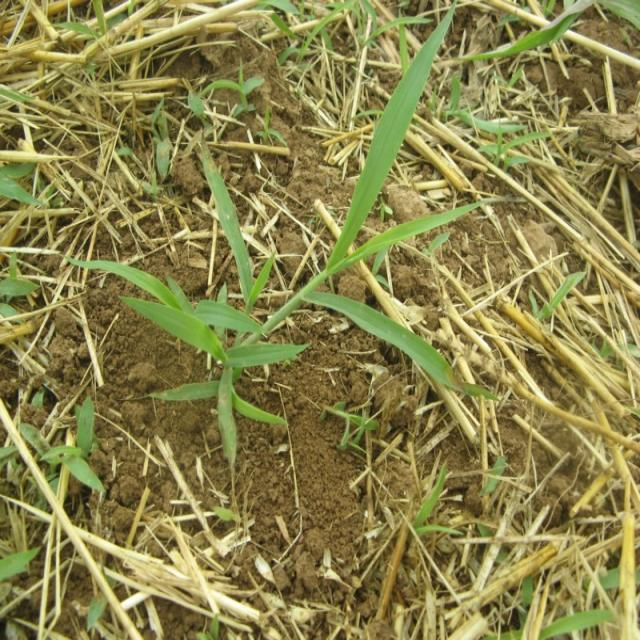bg: (72, 18, 494, 454)
